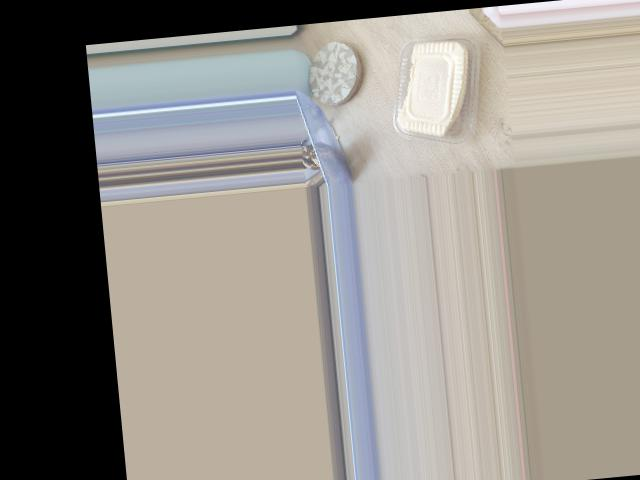cheese: (377, 15, 512, 140)
